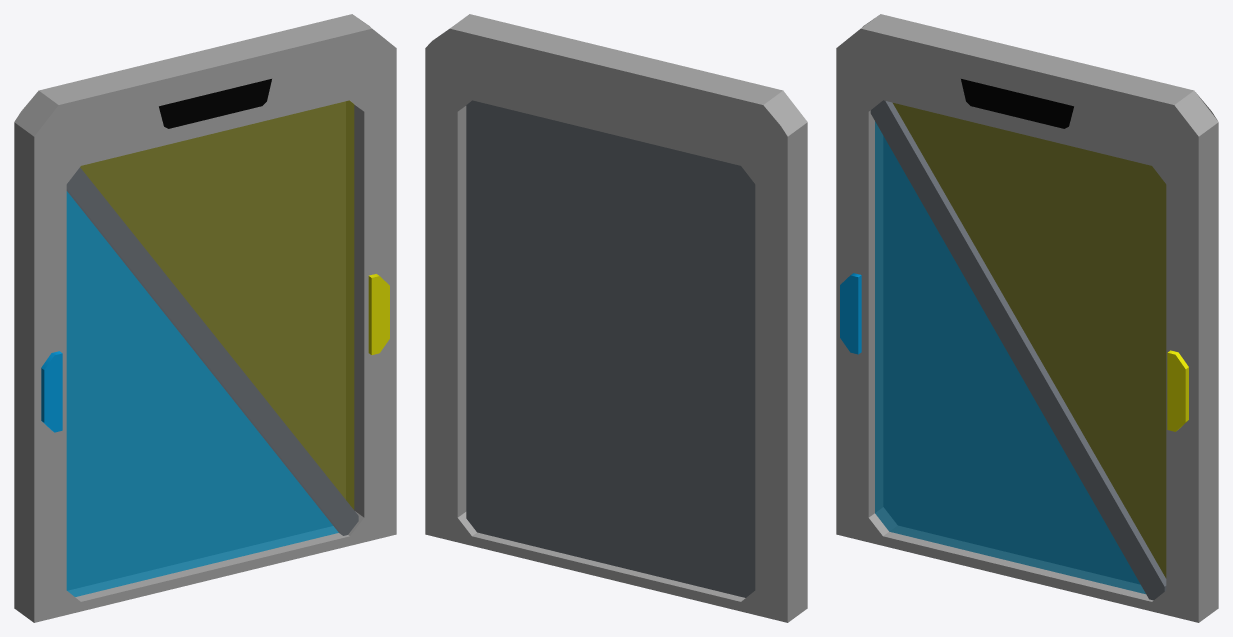
The model's file is Porte_double.fbx.
3 views of the same model, side by side, from view 1: azimuth 30°, elevation 25°; view 2: azimuth 150°, elevation 25°; view 3: azimuth 330°, elevation 25° (orthographic).
Parts seen in each view (by area): view 1: vitre1, porte_bordure1; view 2: vitre1, porte_bordure1; view 3: vitre1, porte_bordure1.
Boxes of the visible parts, x1,y1,x2,y2 form: vitre1: (66,100,358,596); porte_bordure1: (14,14,396,622); vitre1: (466,100,755,597); porte_bordure1: (425,14,807,622); vitre1: (870,100,1166,600); porte_bordure1: (836,14,1218,622).
Bounding box in the file's own units: 2.23 × 3.01 × 0.2464.
